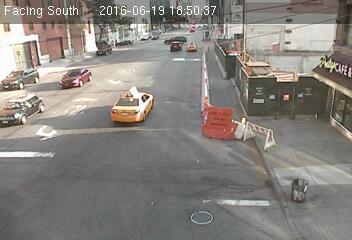neg: (50, 128, 78, 165), (184, 105, 207, 136), (160, 178, 183, 209), (71, 66, 94, 96), (121, 85, 143, 115), (179, 45, 201, 75), (262, 69, 284, 98), (210, 181, 231, 209), (289, 173, 309, 201), (129, 42, 148, 68), (232, 119, 251, 143), (298, 92, 316, 115), (106, 168, 122, 189)
